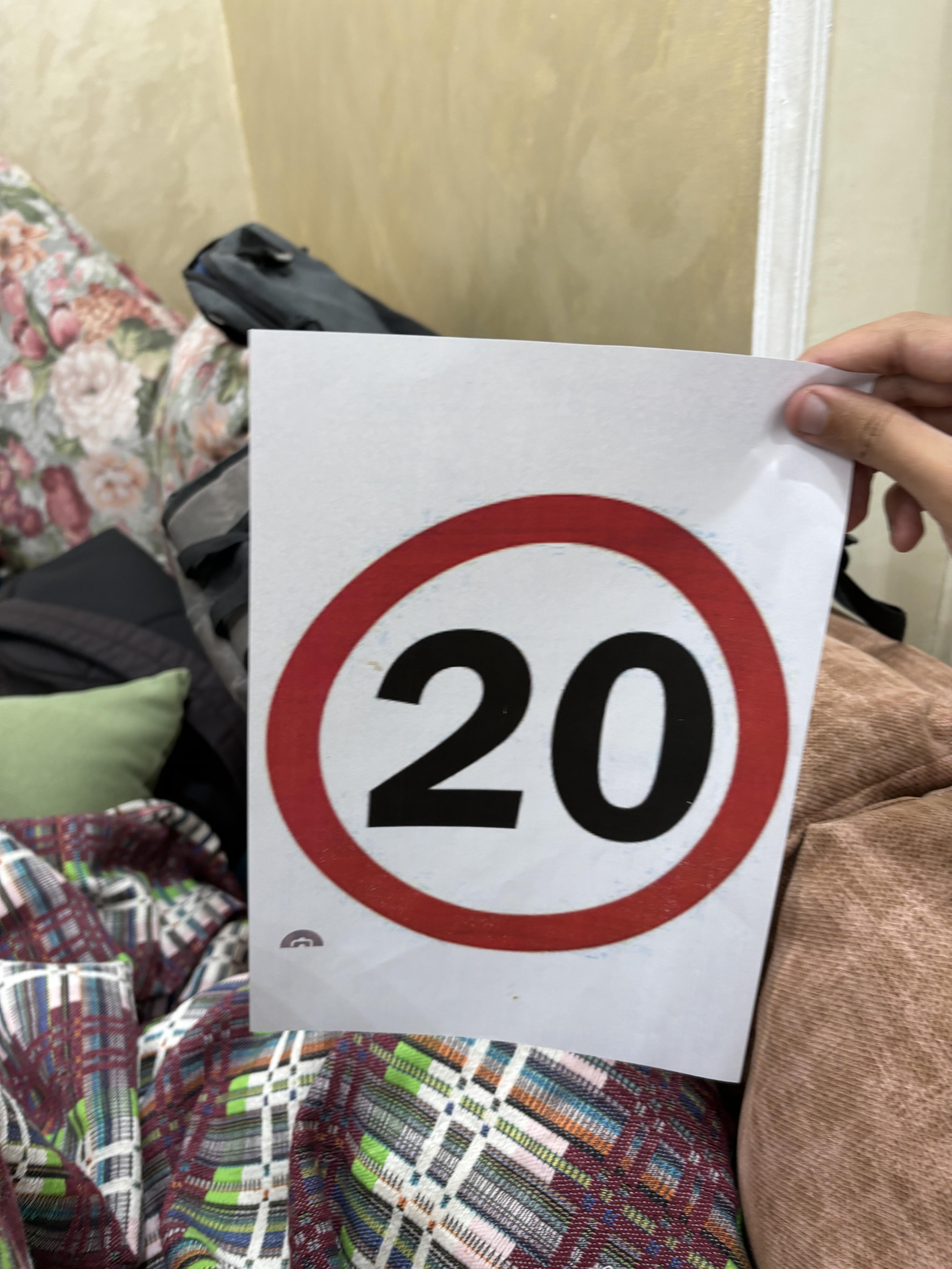20-Speed: (262, 491, 798, 957)
